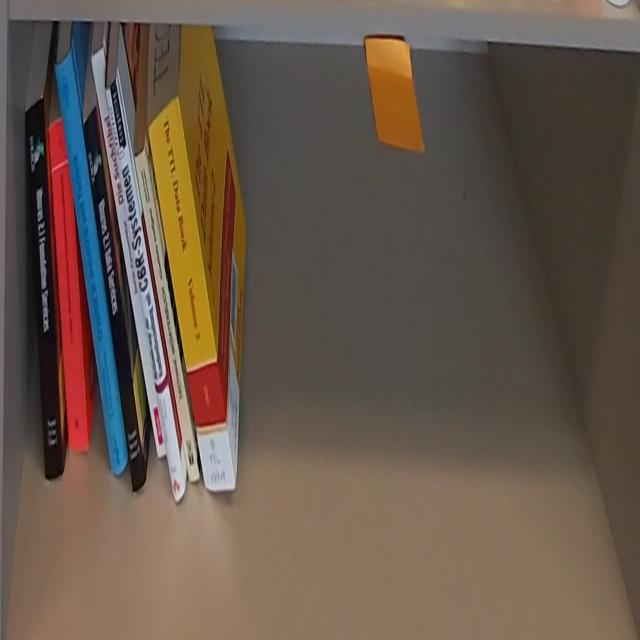Book Spine: (144, 93, 237, 496), (107, 76, 187, 509), (50, 47, 129, 478), (91, 51, 166, 466), (83, 99, 148, 501), (131, 143, 202, 490), (21, 98, 66, 487), (46, 118, 89, 455)
